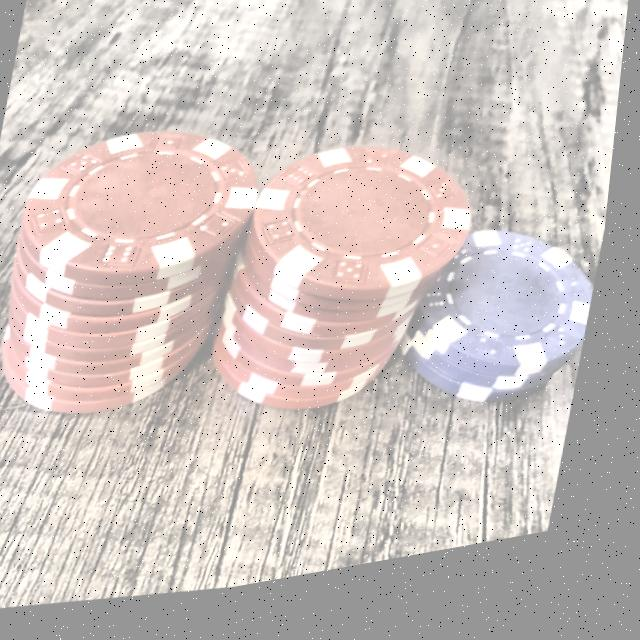Chip: (204, 123, 498, 453), (0, 107, 277, 449), (392, 222, 614, 447)
